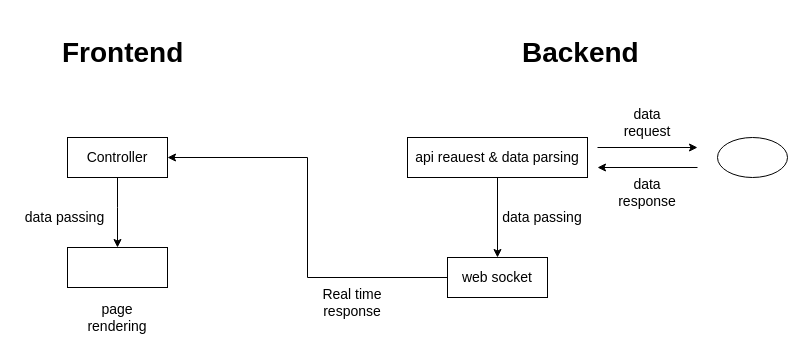
This 805x354 diagram has some shape labels left out. Each missing label, with the centre of its shape:
"API" goes at pixel 752 157.
"Component" goes at pixel 117 267.
